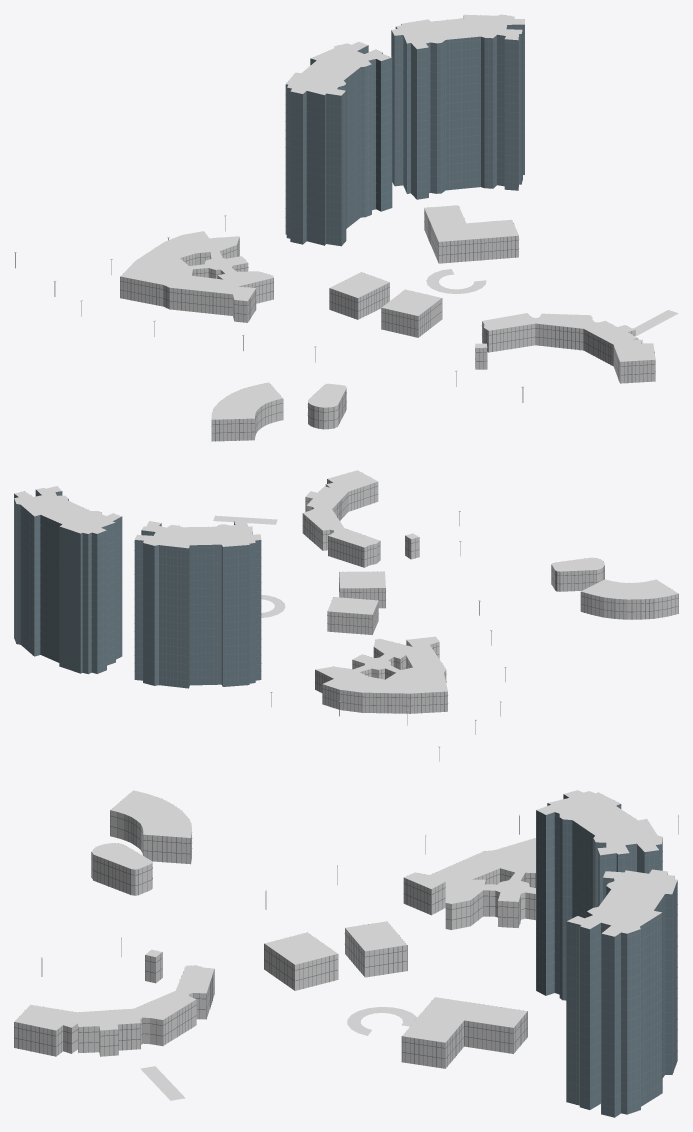
3 views of the same model, one above another, from view 1: azimuth 30°, elevation 25°; view 2: azimuth 150°, elevation 25°; view 3: azimuth 270°, elevation 25° (orthographic). The views are drawn at different scales.
Visible parts, largest first — view 1: 2_-5_超高层蓝灰幕墙, 2_-5_v02 深灰屋面, 2_-5_城市金属细框, 2_-5_v02 米白石材, 2_-5_v02 草地; view 2: 2_-5_超高层蓝灰幕墙, 2_-5_城市金属细框, 2_-5_v02 深灰屋面, 2_-5_v02 米白石材, 2_-5_v02 草地; view 3: 2_-5_超高层蓝灰幕墙, 2_-5_v02 深灰屋面, 2_-5_v02 米白石材, 2_-5_城市金属细框, 2_-5_v02 草地.
Boxes of the visible parts, <box> form: 2_-5_超高层蓝灰幕墙: <box>285,16,524,246</box>; 2_-5_v02 深灰屋面: <box>120,14,655,419</box>; 2_-5_城市金属细框: <box>120,19,655,441</box>; 2_-5_v02 米白石材: <box>120,208,655,441</box>; 2_-5_v02 草地: <box>426,269,678,335</box>; 2_-5_超高层蓝灰幕墙: <box>14,490,261,688</box>; 2_-5_城市金属细框: <box>14,479,678,713</box>; 2_-5_v02 深灰屋面: <box>14,470,678,693</box>; 2_-5_v02 米白石材: <box>302,479,678,713</box>; 2_-5_v02 草地: <box>213,515,285,617</box>; 2_-5_超高层蓝灰幕墙: <box>536,794,677,1117</box>; 2_-5_v02 深灰屋面: <box>14,790,677,1042</box>; 2_-5_v02 米白石材: <box>14,810,535,1068</box>; 2_-5_城市金属细框: <box>14,794,677,1117</box>; 2_-5_v02 草地: <box>140,1007,417,1100</box>.
Size of the model in its own units: 247 by 69.65 by 231.
